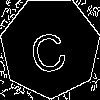C: (25, 22, 70, 75)
